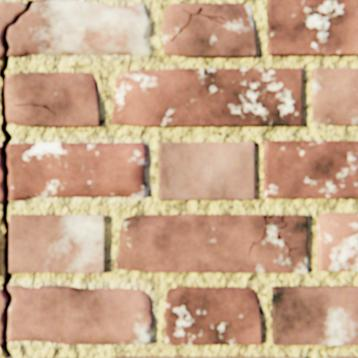brick: (111, 68, 301, 126), (116, 214, 306, 272), (164, 286, 260, 344), (10, 214, 104, 272), (158, 142, 253, 199), (262, 141, 357, 197), (5, 72, 99, 126), (271, 285, 357, 344), (162, 3, 255, 57), (266, 0, 357, 55), (310, 68, 357, 125), (316, 212, 357, 270), (114, 355, 304, 357), (321, 355, 357, 357), (52, 356, 74, 357)
broken_brick: (8, 284, 151, 343), (7, 143, 146, 200), (8, 1, 148, 57), (0, 3, 25, 60), (0, 288, 6, 345), (0, 155, 3, 203)
crack: (0, 2, 37, 356), (170, 8, 226, 42), (247, 214, 271, 254), (276, 215, 296, 257), (14, 103, 55, 114)
